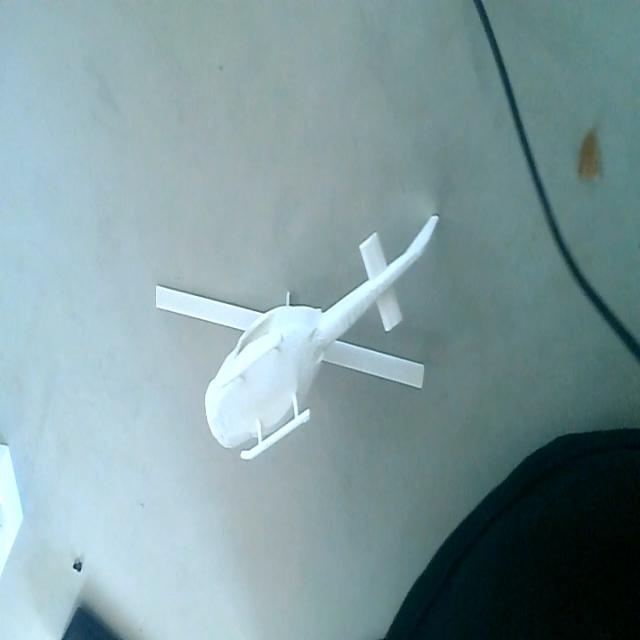Helicopter: (152, 214, 446, 460)
